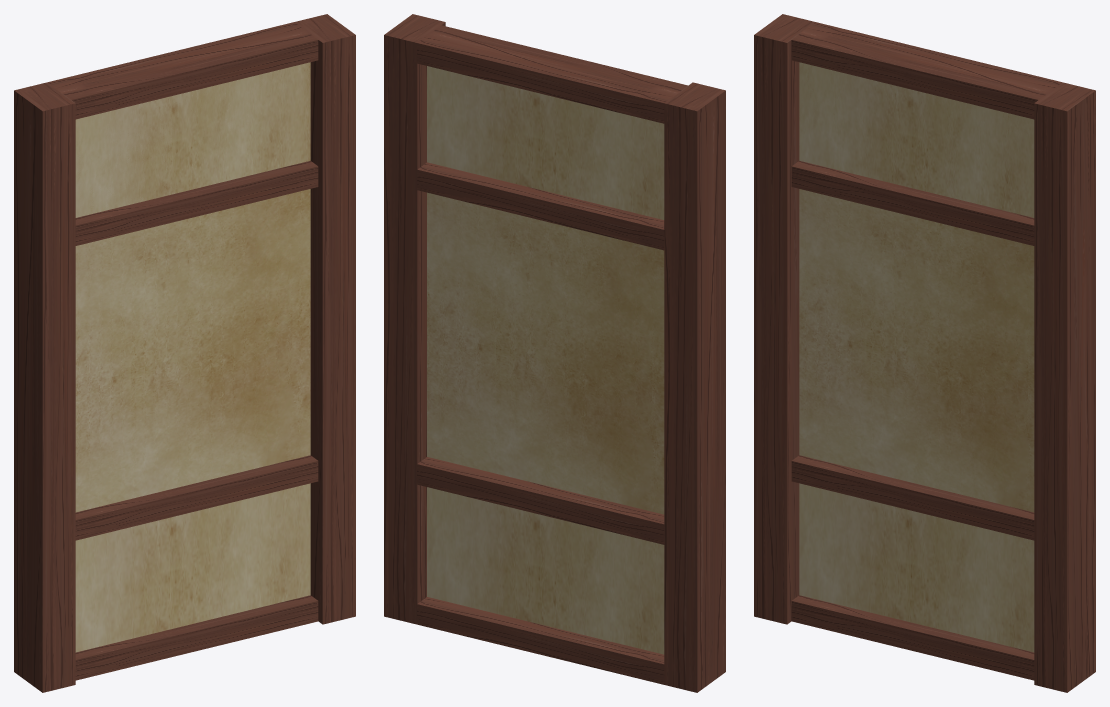
File: Wall_Upgrade.fbx
The picture shows the model from 3 angles, left to right: view 1: azimuth 30°, elevation 25°; view 2: azimuth 150°, elevation 25°; view 3: azimuth 330°, elevation 25°; orthographic projection.
Visible parts, largest first — view 1: SM_wall.003; view 2: SM_wall.003; view 3: SM_wall.003.
Part boxes in pixels (x1=…): SM_wall.003: x1=14, y1=14, x2=355, y2=692; SM_wall.003: x1=384, y1=14, x2=725, y2=692; SM_wall.003: x1=754, y1=14, x2=1095, y2=692.
Size of the model in its own units: 201 by 357 by 31.89.
